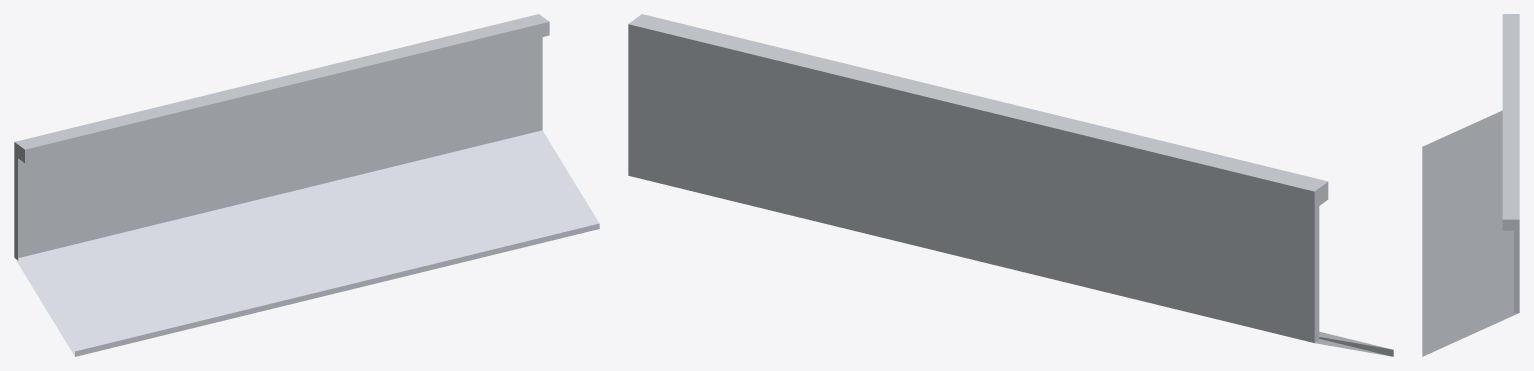
The model's file is telhado_rufo_i50_1m.glb.
The picture shows the model from 3 angles, left to right: view 1: azimuth 30°, elevation 25°; view 2: azimuth 150°, elevation 25°; view 3: azimuth 270°, elevation 25°; orthographic projection. The views are drawn at different scales.
Visible parts, largest first — view 1: telhado_rufo_i50_1m; view 2: telhado_rufo_i50_1m; view 3: telhado_rufo_i50_1m.
Boxes of the visible parts, <box> form: telhado_rufo_i50_1m: <box>14,14,599,356</box>; telhado_rufo_i50_1m: <box>628,14,1393,356</box>; telhado_rufo_i50_1m: <box>1422,14,1519,356</box>.
Bounding box in the file's own units: 1 × 0.311 × 0.2.
1 material, 1 textured.
